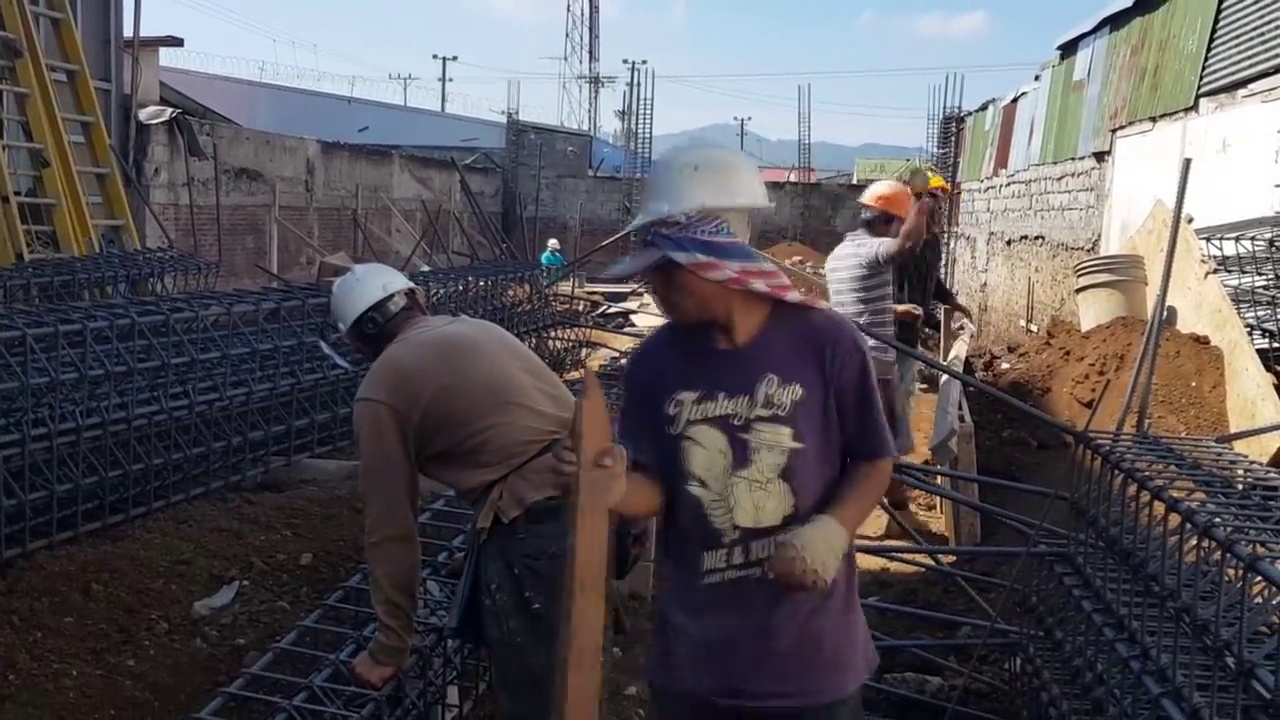helmet: (627, 146, 776, 225), (328, 264, 418, 351), (855, 178, 912, 221), (546, 239, 561, 250)
helmet-on: (606, 137, 773, 382), (326, 261, 440, 374), (859, 179, 918, 236), (545, 237, 563, 255)
person: (600, 120, 887, 716), (321, 261, 601, 710), (837, 175, 951, 403), (892, 166, 956, 402), (536, 237, 562, 279)
